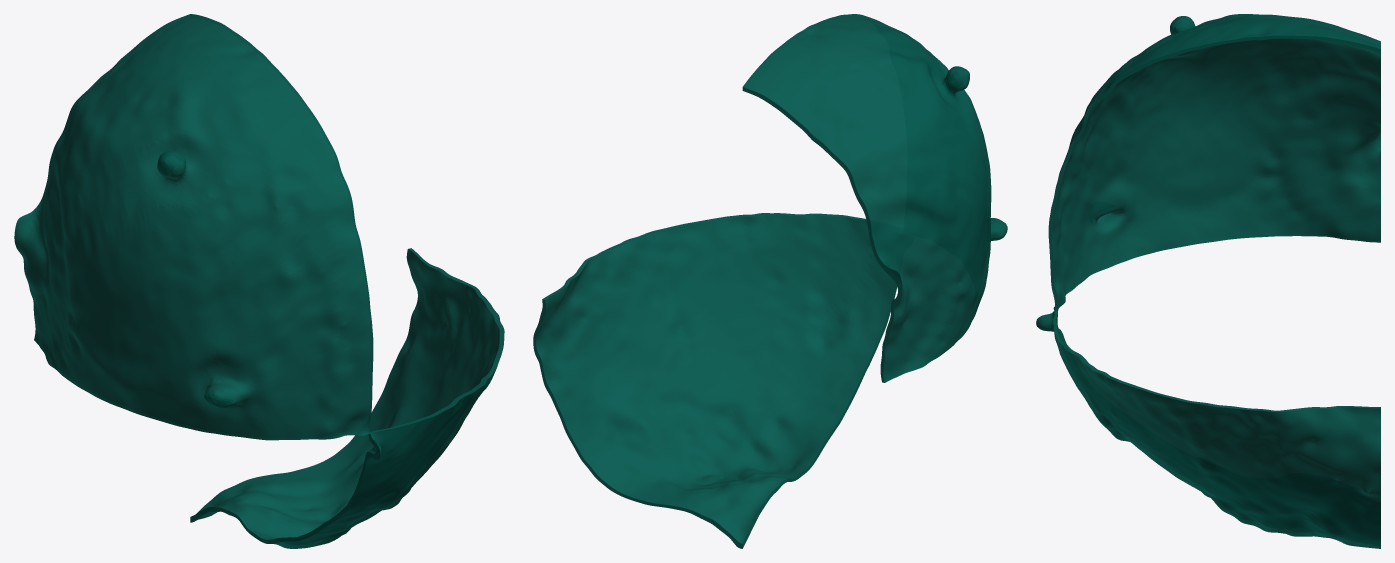
The model's file is Scalp_quadrants.obj.
3 renders of one model, left to right at view 1: azimuth 30°, elevation 25°; view 2: azimuth 150°, elevation 25°; view 3: azimuth 270°, elevation 25°, orthographic. The views are drawn at different scales.
Visible parts, largest first — view 1: grp1; view 2: grp1; view 3: grp1.
Part boxes in pixels (box(x1,y1,x2,y2)): grp1: box(14, 14, 504, 548); grp1: box(533, 14, 1007, 548); grp1: box(1036, 14, 1380, 548).
Size of the model in its own units: 156 by 190 by 125.
